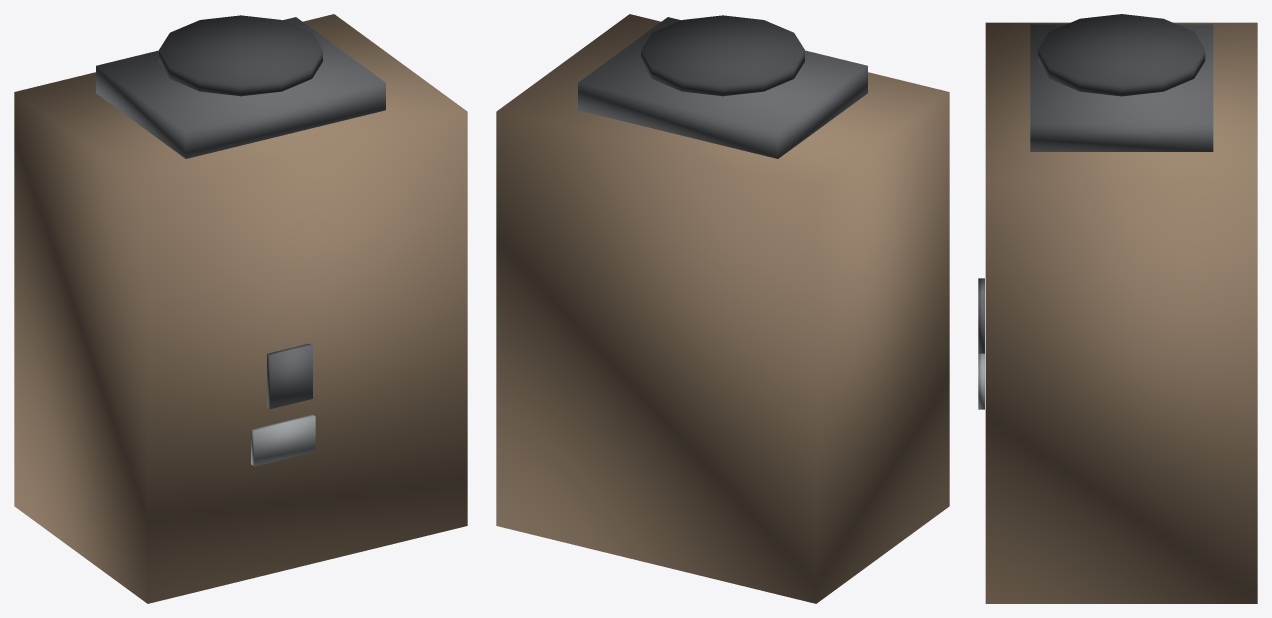
File: record_store_listening_station__weathered.glb
3 views of the same model, side by side, from view 1: azimuth 30°, elevation 25°; view 2: azimuth 150°, elevation 25°; view 3: azimuth 270°, elevation 25° (orthographic).
Visible parts, largest first — view 1: world; view 2: world; view 3: world.
Boxes of the visible parts, x1,y1,x2,y2 form: world: (14, 14, 467, 603); world: (496, 14, 949, 603); world: (978, 14, 1257, 603).
Bounding box in the file's own units: 0.72 × 1 × 0.5345.
